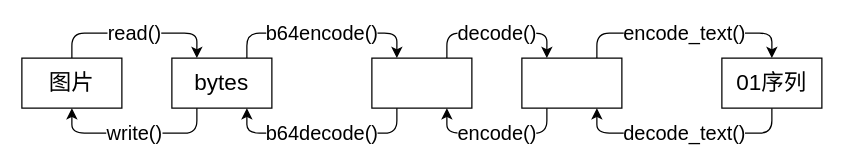
The diagram is 844 pixels wide and 166 high, and some of its shapes have lost their labels. The box of each missing label's shape, as (x1, y1, x2, y2) in pixels:
base64: (371, 57, 472, 108)
str: (521, 57, 622, 108)
